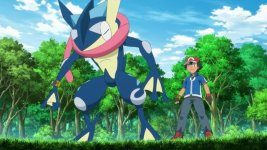greninja: (39, 1, 169, 145)
